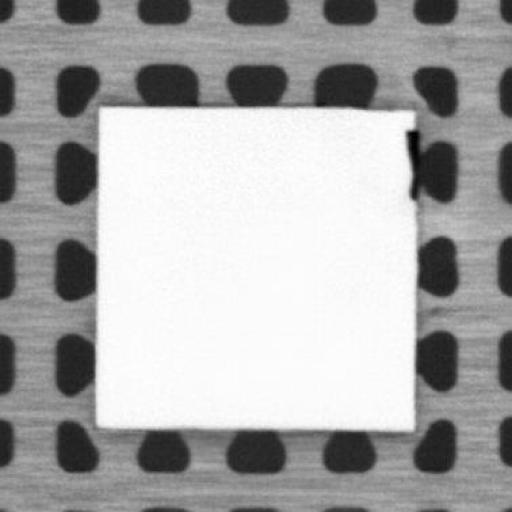DIE_BROKEN: (404, 124, 420, 202)
